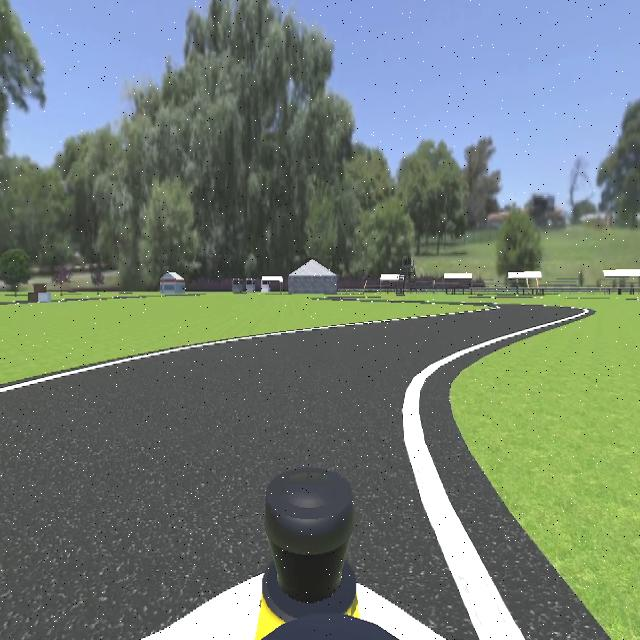road: (0, 310, 551, 640)
solid_line: (402, 310, 589, 640), (0, 321, 378, 395)
